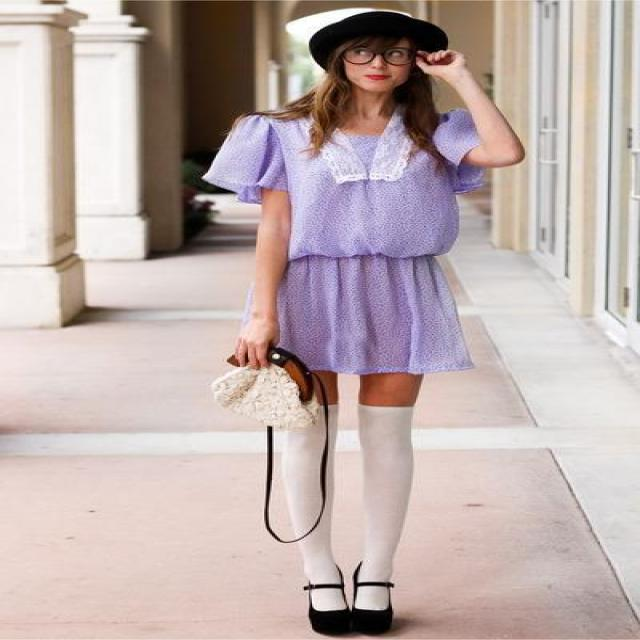bag: (222, 346, 325, 451)
dress: (202, 108, 492, 373)
hat: (309, 13, 446, 63)
shoe: (310, 565, 392, 610)
